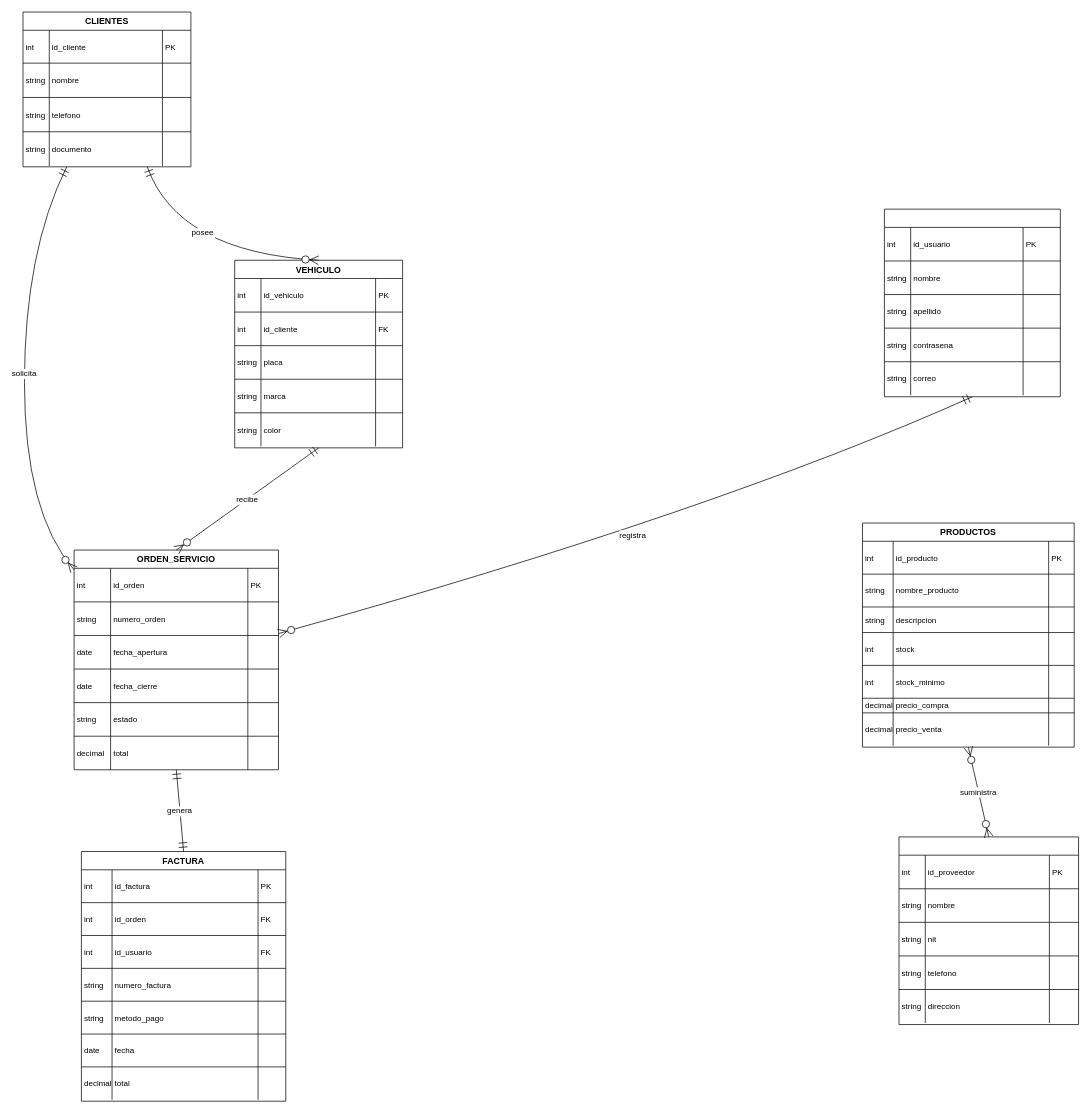
Some shapes in this 1091 by 1113 pixel diagram are drawn without their labels. Here are the shapes that lost their labels. From the top down, the box of each, then its label:
(884, 208, 1060, 397): USUARIOS
(898, 836, 1079, 1025): PROVEEDORES
